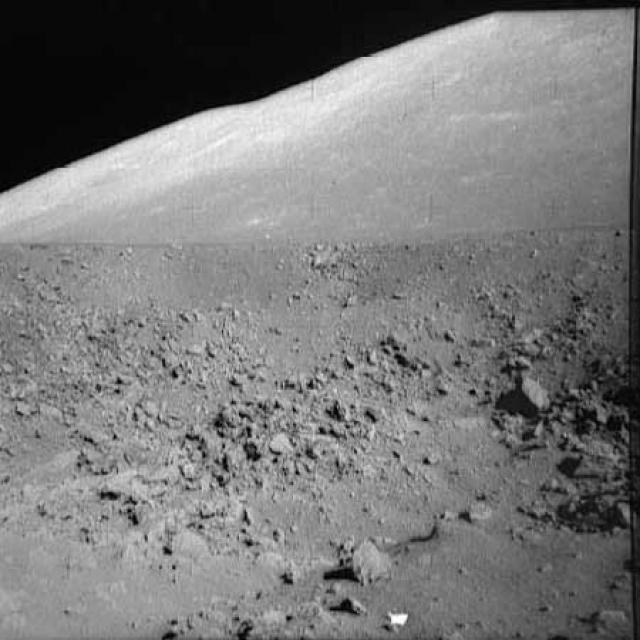rock: (240, 598, 336, 638), (157, 593, 240, 639), (332, 526, 394, 582), (505, 371, 558, 410), (582, 600, 633, 639)
